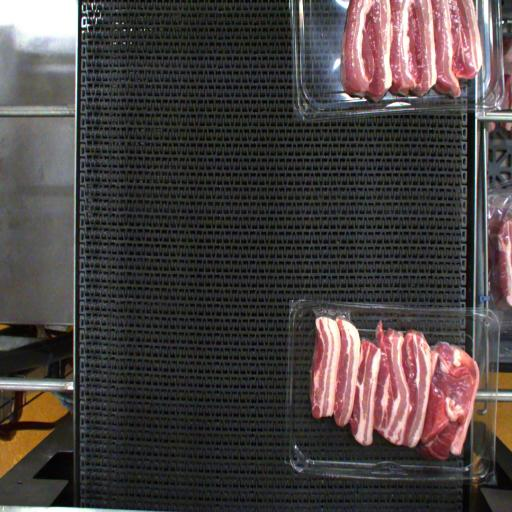packaging-error: (314, 286, 358, 326)
